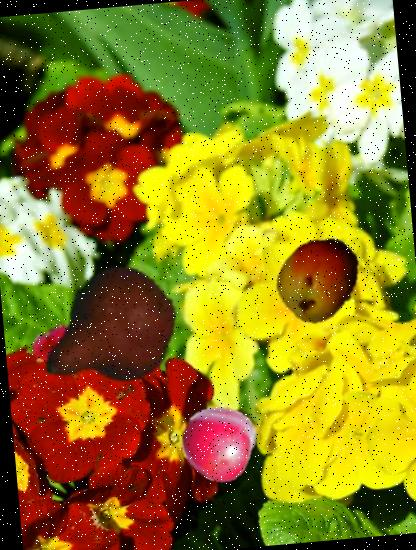Cherry: (178, 403, 258, 484)
Papaya: (271, 230, 369, 328)
Pear: (29, 254, 186, 412)
